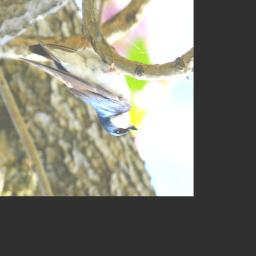Swallow: (17, 32, 138, 137)
